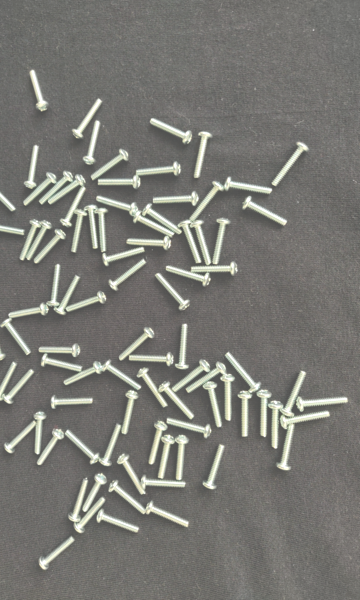longscrew: (274, 142, 308, 187), (245, 196, 287, 232), (145, 498, 188, 532), (153, 273, 190, 310), (70, 100, 105, 139), (226, 353, 262, 389), (137, 370, 169, 410), (64, 427, 98, 464), (105, 357, 142, 391), (282, 371, 308, 418), (110, 259, 147, 292), (188, 362, 225, 395), (191, 184, 221, 224), (42, 536, 76, 571), (159, 383, 193, 418), (92, 151, 129, 183), (122, 327, 154, 364), (60, 188, 91, 226), (273, 425, 297, 474), (152, 117, 192, 146), (73, 501, 107, 535), (108, 481, 144, 513), (34, 430, 64, 468), (118, 455, 145, 497), (166, 263, 212, 287), (99, 508, 136, 537), (66, 360, 104, 388), (4, 421, 36, 454), (166, 417, 214, 439), (39, 172, 73, 203), (144, 205, 183, 232), (3, 370, 33, 405), (174, 363, 207, 394), (49, 176, 86, 203), (23, 174, 54, 206), (32, 232, 65, 262), (283, 409, 330, 430), (28, 69, 51, 111), (21, 146, 44, 188), (191, 131, 212, 177), (24, 223, 50, 260), (65, 290, 105, 314), (104, 244, 144, 268), (145, 422, 167, 464), (101, 424, 123, 466), (180, 221, 201, 265), (205, 443, 225, 489), (135, 214, 173, 238), (2, 320, 28, 355), (81, 475, 106, 511), (193, 220, 213, 265), (16, 221, 39, 260), (97, 195, 139, 216), (116, 392, 136, 436), (55, 277, 79, 313), (69, 479, 89, 521), (193, 260, 239, 278), (81, 121, 100, 164), (137, 159, 180, 178), (226, 178, 273, 195), (126, 232, 173, 249), (5, 301, 49, 319), (98, 174, 142, 192), (214, 219, 231, 265), (96, 207, 113, 253), (70, 209, 87, 255), (41, 356, 84, 374), (129, 348, 172, 366), (154, 190, 197, 208), (85, 205, 102, 250), (205, 381, 221, 427), (297, 398, 350, 411), (47, 265, 62, 309), (175, 322, 189, 369), (158, 436, 173, 479), (0, 362, 16, 401), (0, 175, 17, 211), (51, 396, 96, 409), (177, 436, 189, 482), (258, 393, 271, 435), (39, 343, 84, 355), (33, 413, 45, 456), (0, 218, 28, 236), (240, 388, 250, 438), (224, 373, 234, 423), (270, 404, 280, 453), (140, 479, 189, 489), (0, 320, 5, 361)
